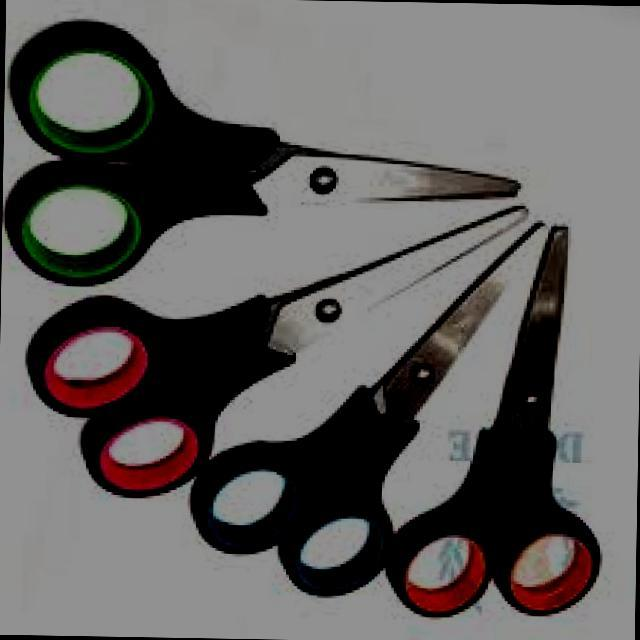Scissors: (6, 152, 534, 516), (1, 1, 532, 309), (172, 202, 562, 610), (386, 211, 622, 634)
